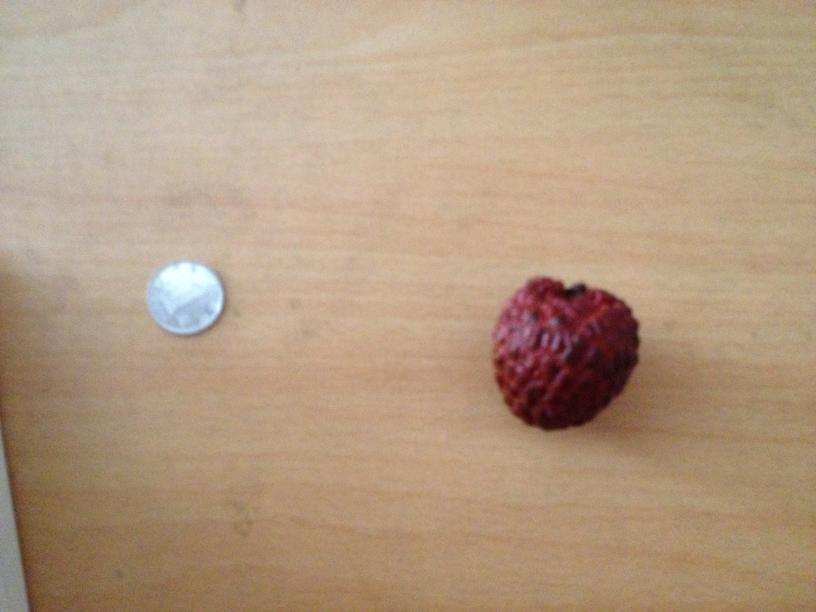coin: (145, 259, 224, 336)
litchi: (493, 274, 637, 429)
